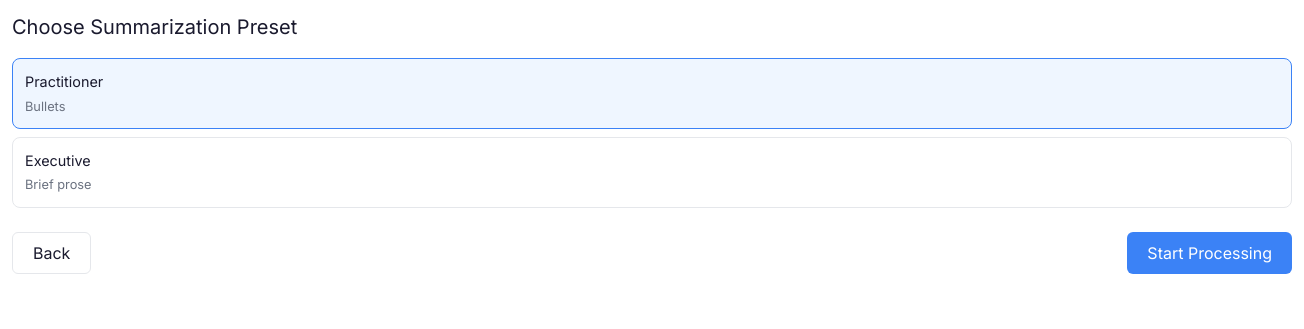
Scenario: PresetPicker › surfaces POST /summarize error inline
The image size is (1304, 329).
Click the button with test id "start-processing": (1210, 253) [1127,232,1292,274]
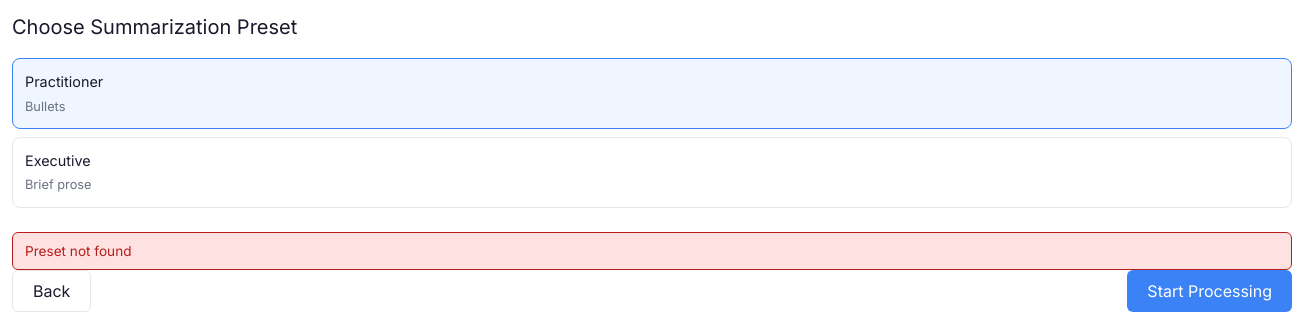
Expected: the button with test id "start-processing" is enabled, [1127,270,1292,312]
Expected: the message with test id "start-error" reads "Preset not found", [25,243,132,259]
